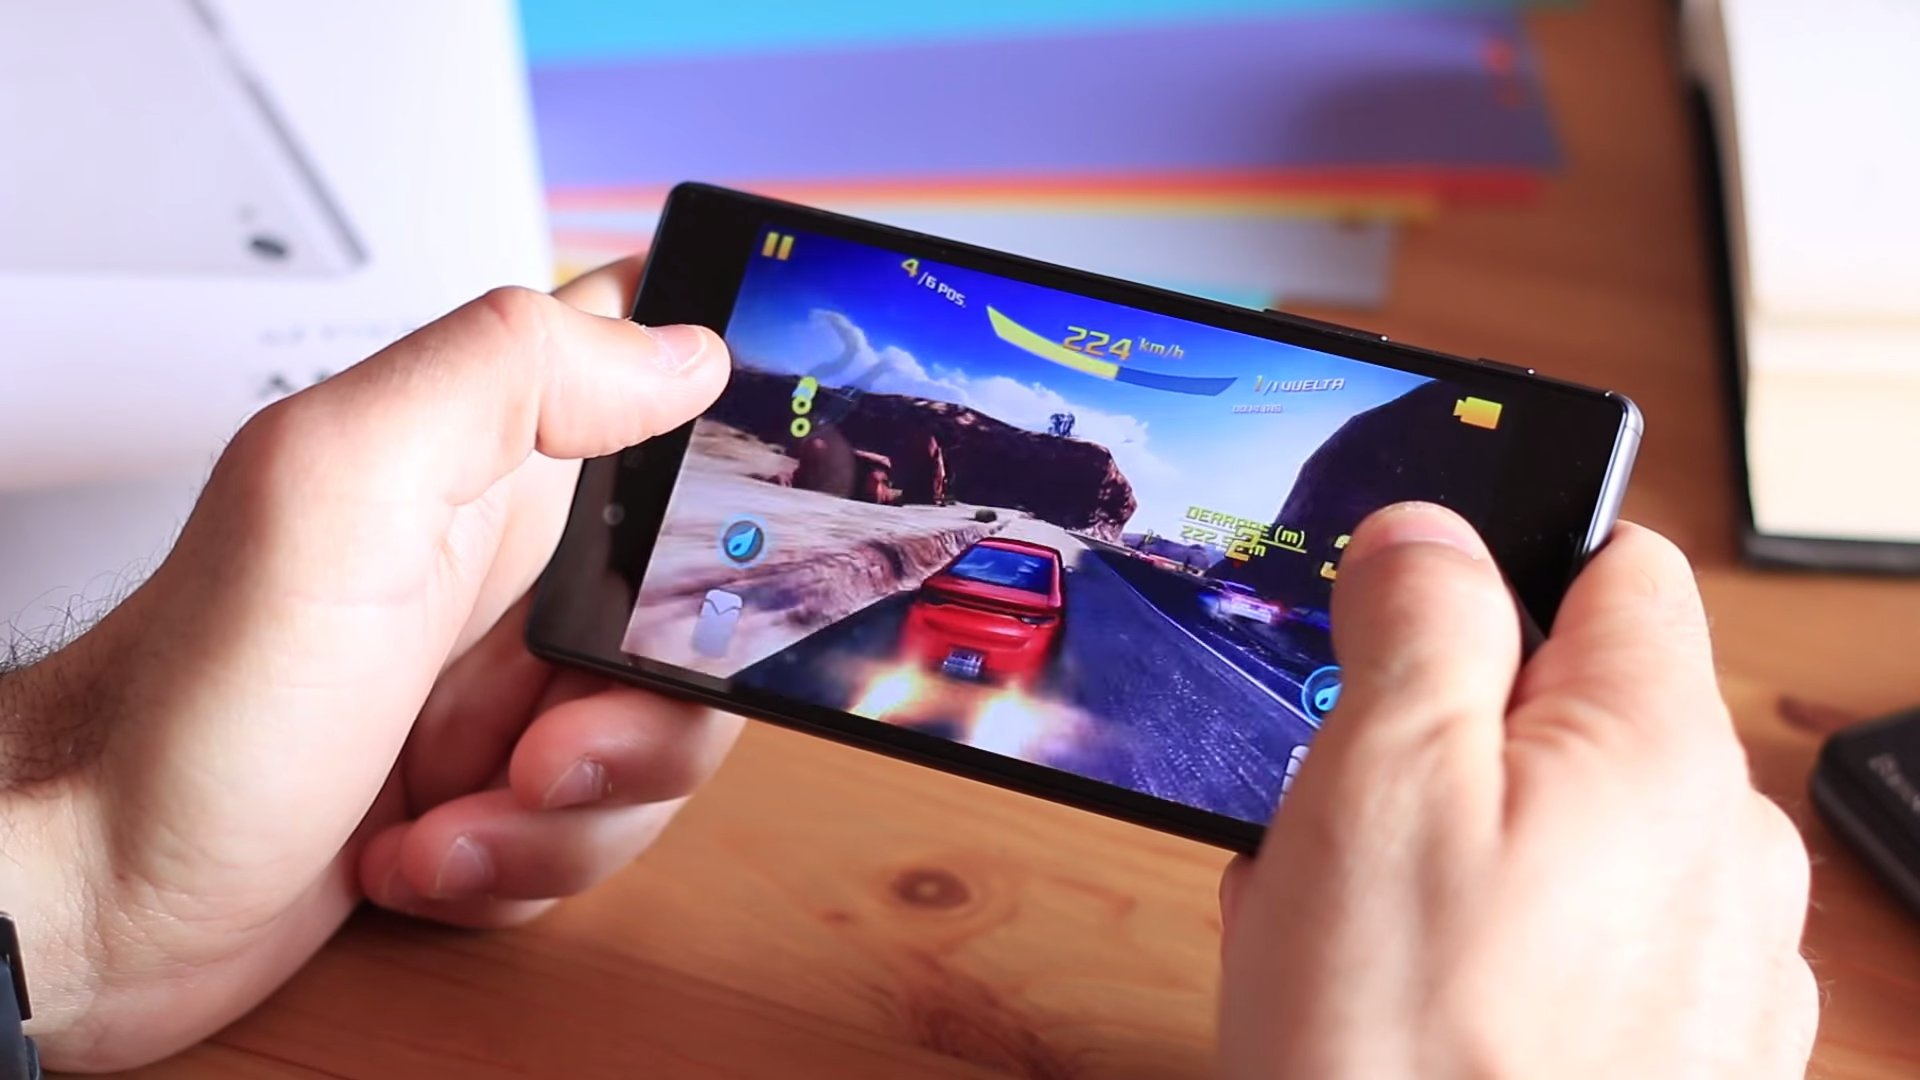smartphone: (522, 179, 1646, 862)
